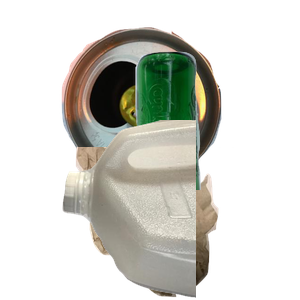glass: (129, 49, 300, 229)
metal: (59, 10, 273, 189)
plastic: (60, 120, 300, 300)
trash: (73, 147, 300, 300)
